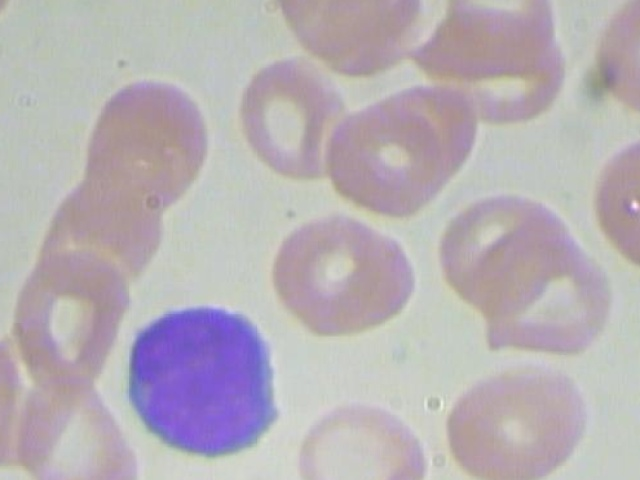RBC: (256, 207, 425, 348), (62, 61, 231, 202), (468, 213, 613, 366), (432, 357, 598, 480), (0, 242, 140, 386), (225, 47, 353, 177), (323, 97, 456, 216), (1, 379, 148, 480), (288, 388, 432, 480), (584, 135, 640, 270), (584, 0, 640, 119), (98, 477, 244, 480)
WBC: (128, 296, 284, 459)
